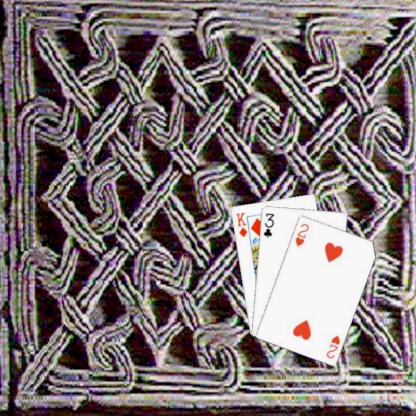2H: (323, 332, 341, 360), (292, 221, 310, 247)
3C: (261, 210, 275, 239)
KD: (234, 209, 249, 238)
